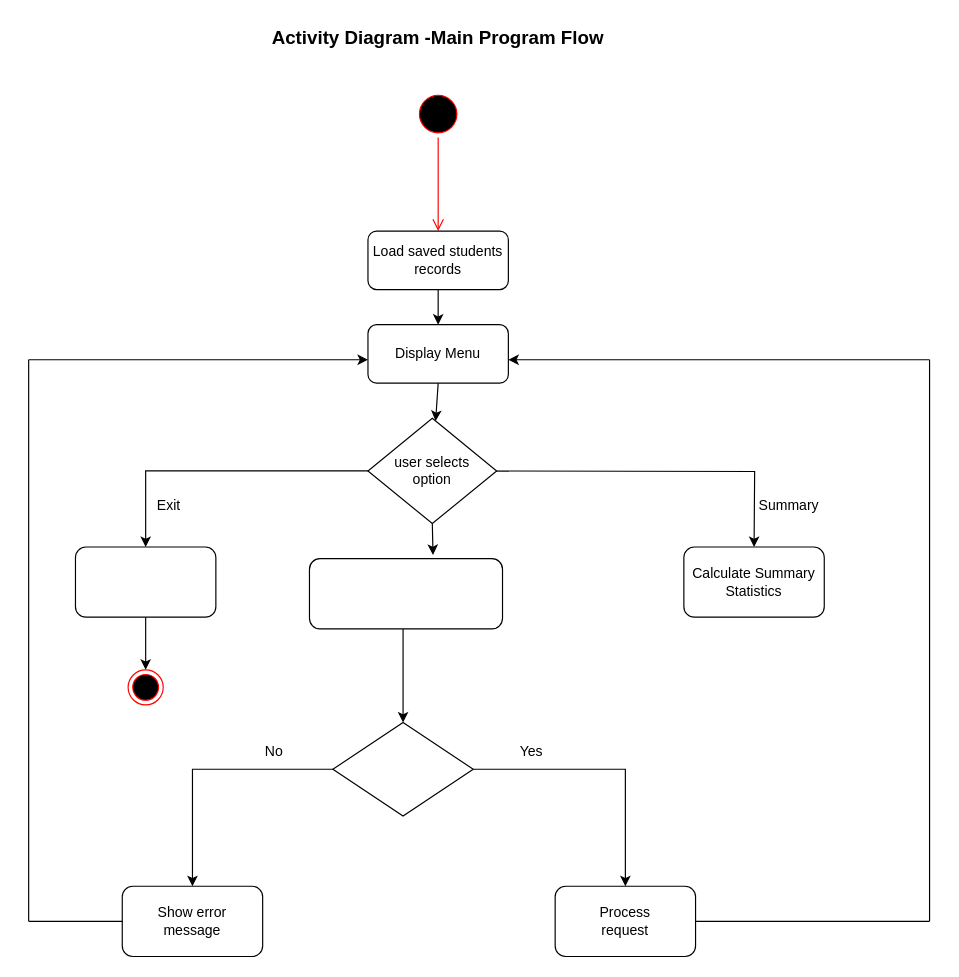
The diagram is 959 pixels wide and 977 high, and some of its shapes have lost their labels. The shapes that lost their labels are listed below. From the top down, each one's centre as x and y in pixels, then its label:
At (x=145, y=581): "Save records to Csv".
At (x=405, y=593): "Add/View/Search/Update/ Delete".
At (x=402, y=768): "Valid Input".
